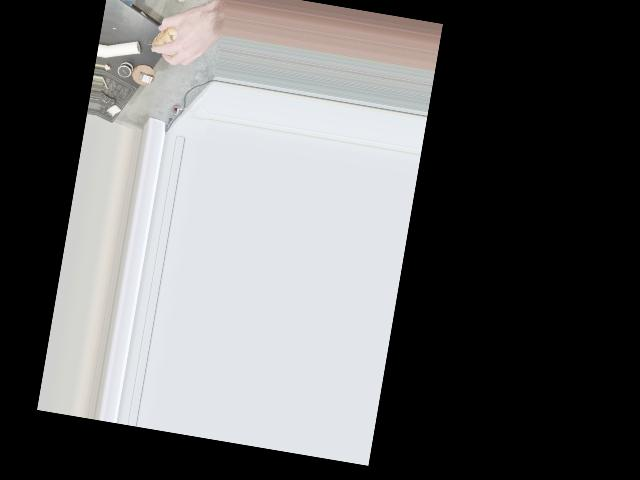onion: (149, 15, 198, 58)
